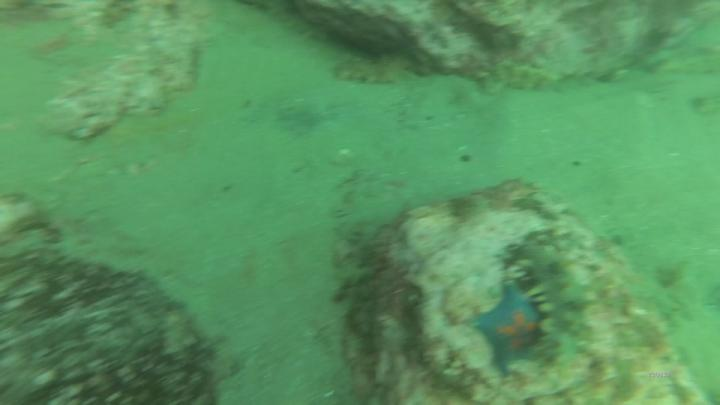holothurian: (511, 239, 601, 367), (484, 54, 567, 100), (332, 50, 416, 87)
starfish: (468, 279, 548, 380)
